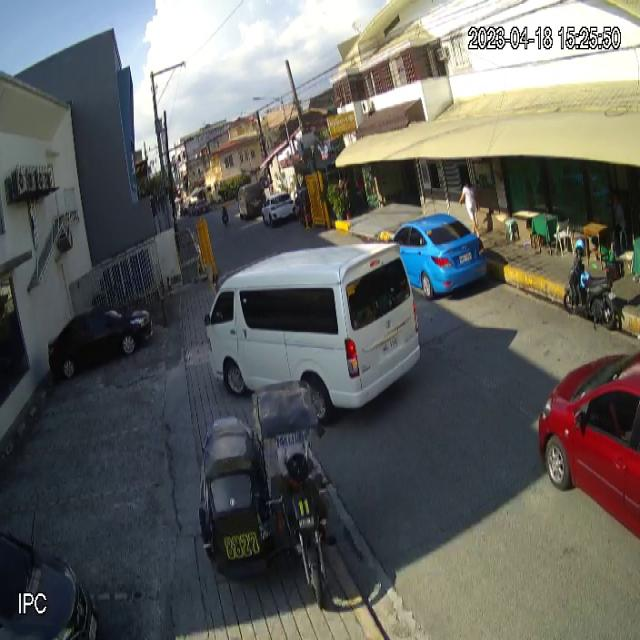Car: (536, 350, 640, 543), (391, 212, 489, 302), (47, 303, 155, 383)
Motorcycle: (564, 252, 624, 330)
Tricycle: (197, 380, 327, 610)
Van: (204, 241, 422, 421)
